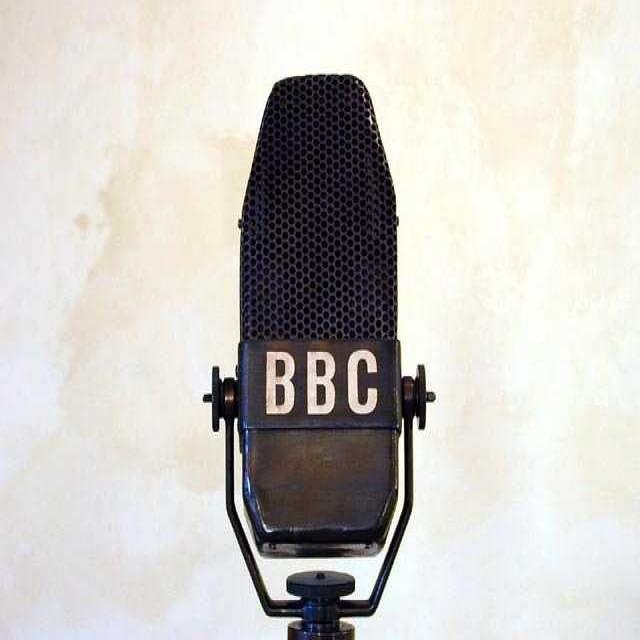microphone: (199, 62, 438, 639)
